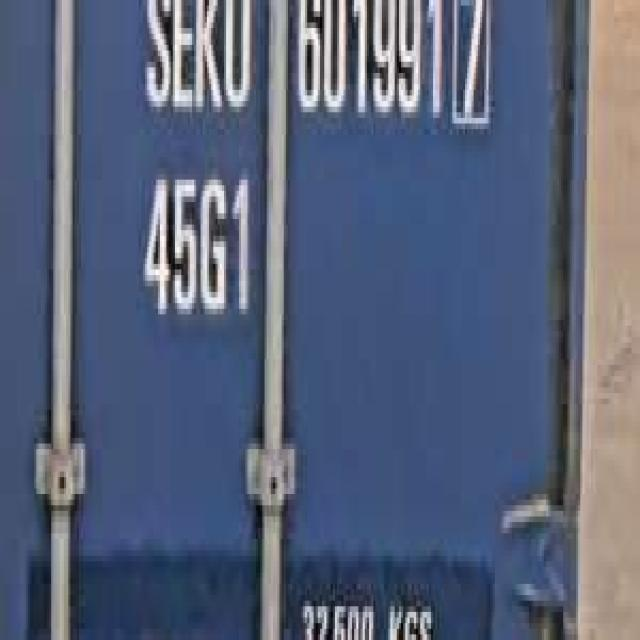dv: (450, 0, 497, 140)
owner: (136, 0, 254, 129)
serial: (292, 0, 444, 146)
size: (136, 157, 254, 337)
